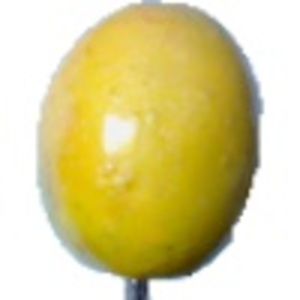maracujá: (36, 1, 266, 300)
